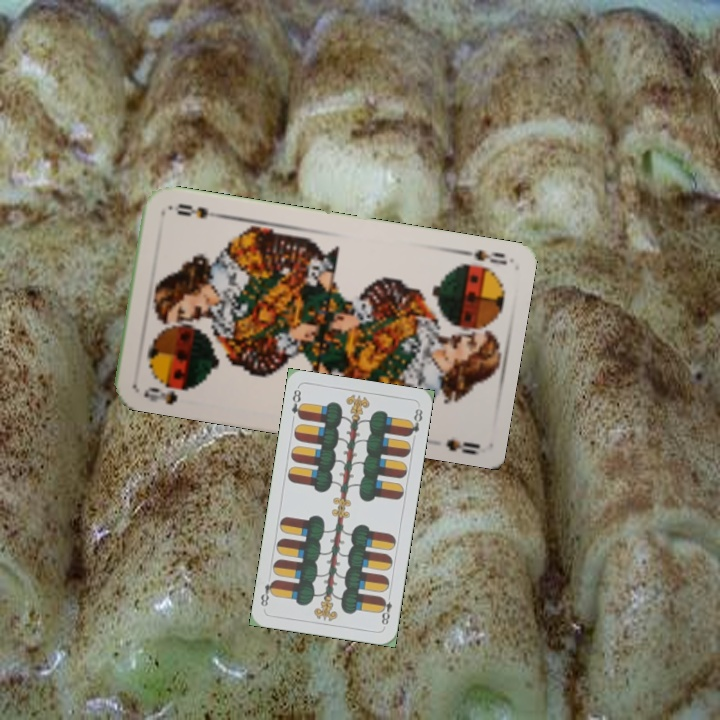E8: (376, 589, 395, 630), (287, 385, 306, 422)
SO: (452, 245, 510, 268), (140, 383, 180, 407)
